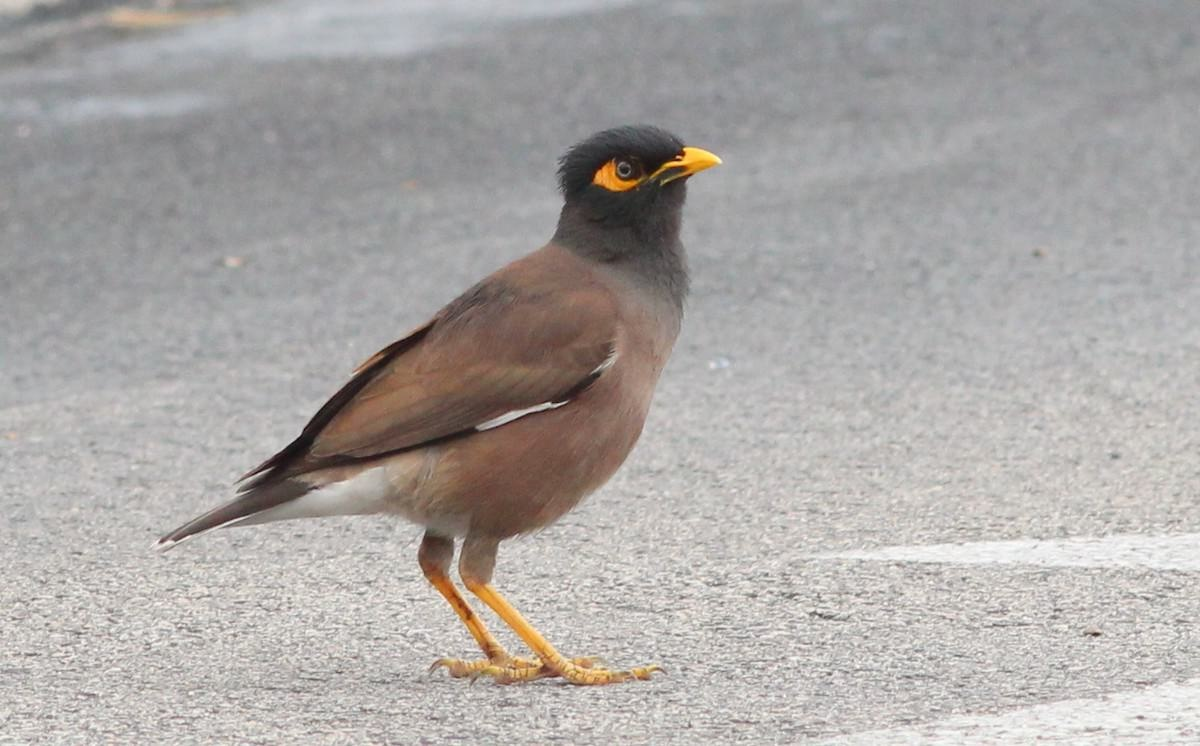myna: (207, 77, 797, 700)
